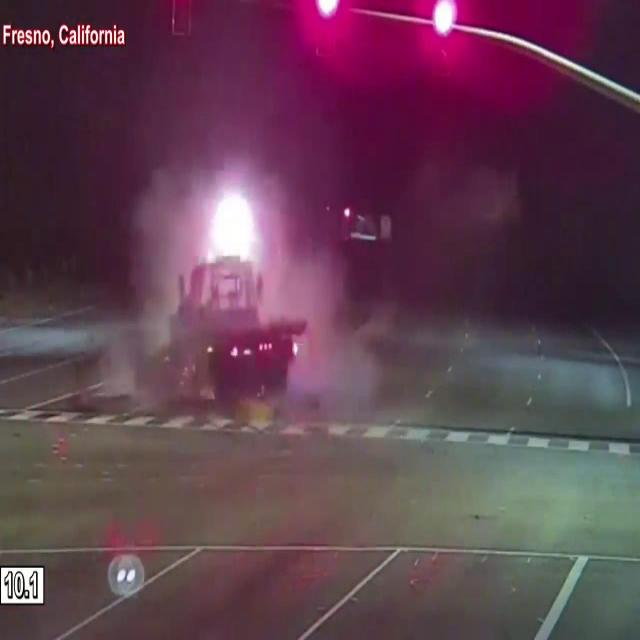accident: (129, 251, 303, 417)
